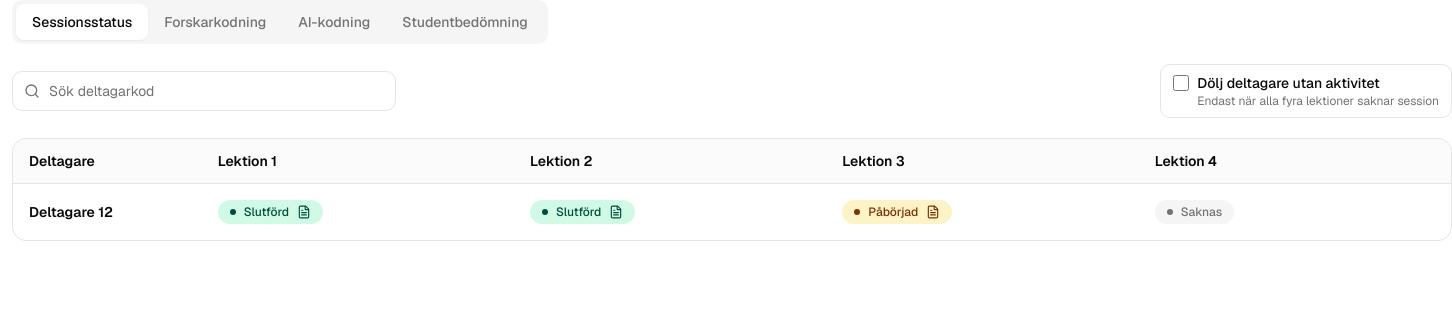
Test: OverviewTable › shows dynamic student assessments and links only submitted reflections
The width and height of the screenshot is (1452, 332).
Click the tab "Studentbedömning" at (465,22), box [386,4,544,40]
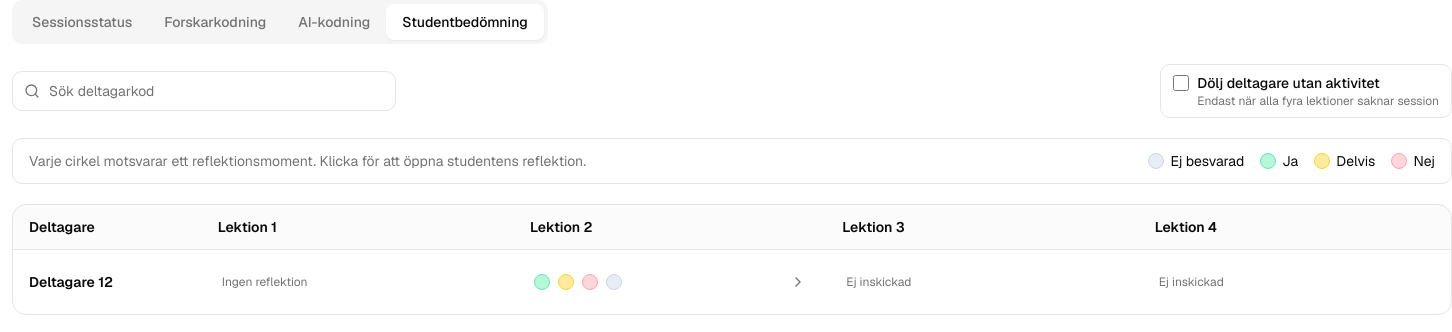
Expected: the text "Ingen reflektion" is shown, [222,274,308,290]
Expected: the text "Ej inskickad" is shown 2 times, [846,274,911,290]; [1159,274,1224,290]
Expected: the number of links is 1, [533,274,824,292]
